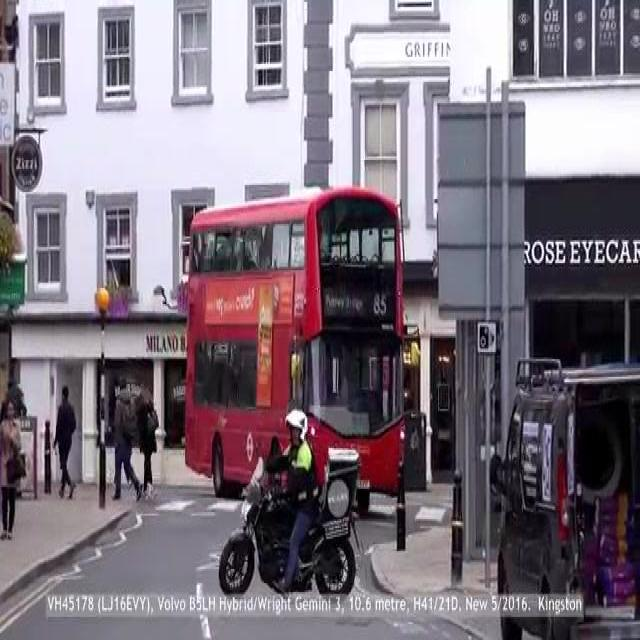bus: (185, 202, 415, 497)
